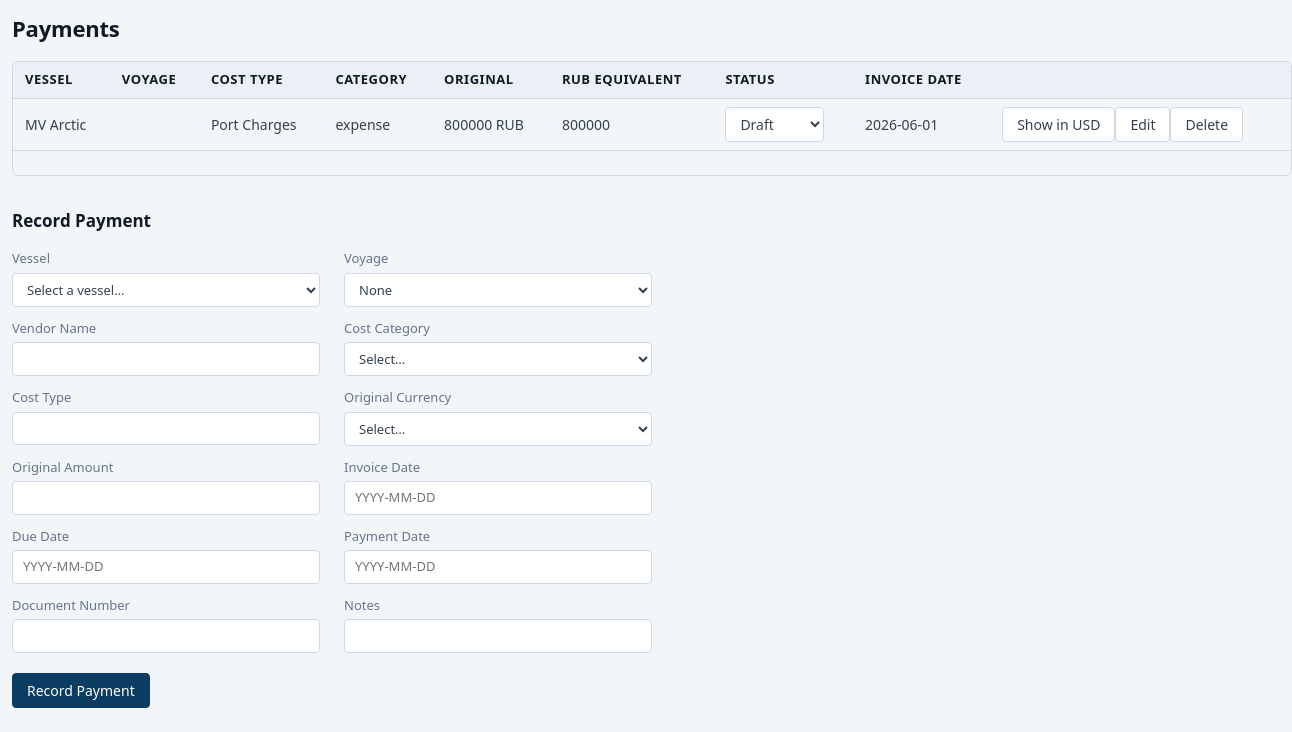
Scenario: PaymentsPage › lets the operator view a payment converted to a different display currency
The width and height of the screenshot is (1292, 732).
Expected: the text "MV Arctic" is shown, [13,98,110,150]
Click the button "Show in USD": (1059, 124) [1002,106,1115,142]
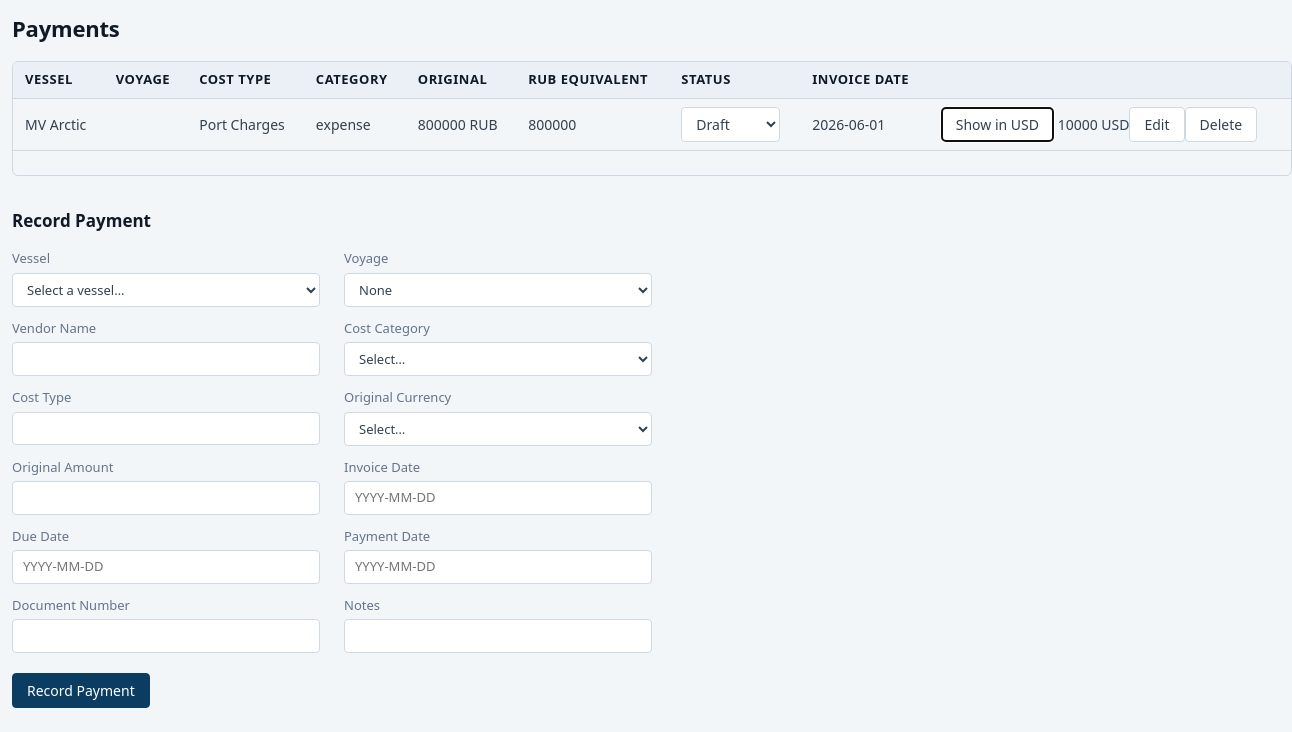
Now the text "10000 USD" is shown, box [1054,114,1130,134]
